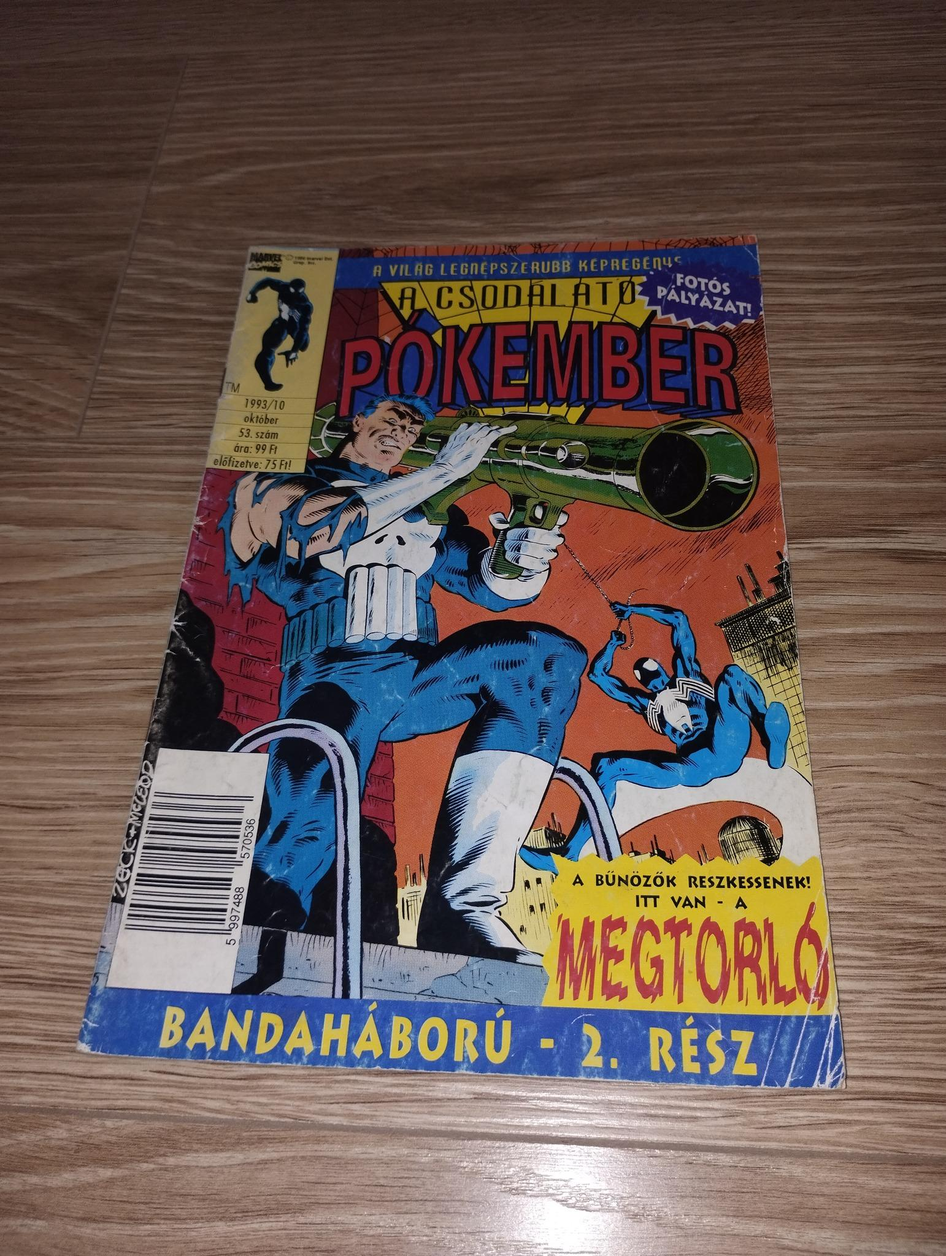comic: (79, 227, 856, 1086)
